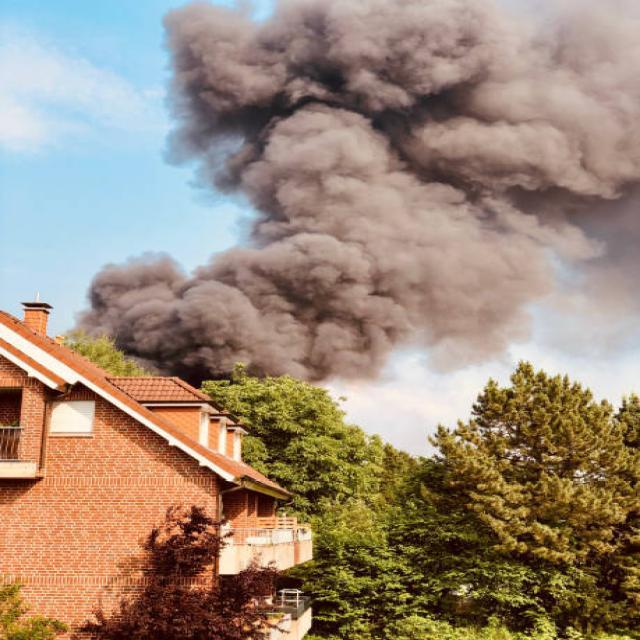Smoke: (72, 0, 640, 387)
